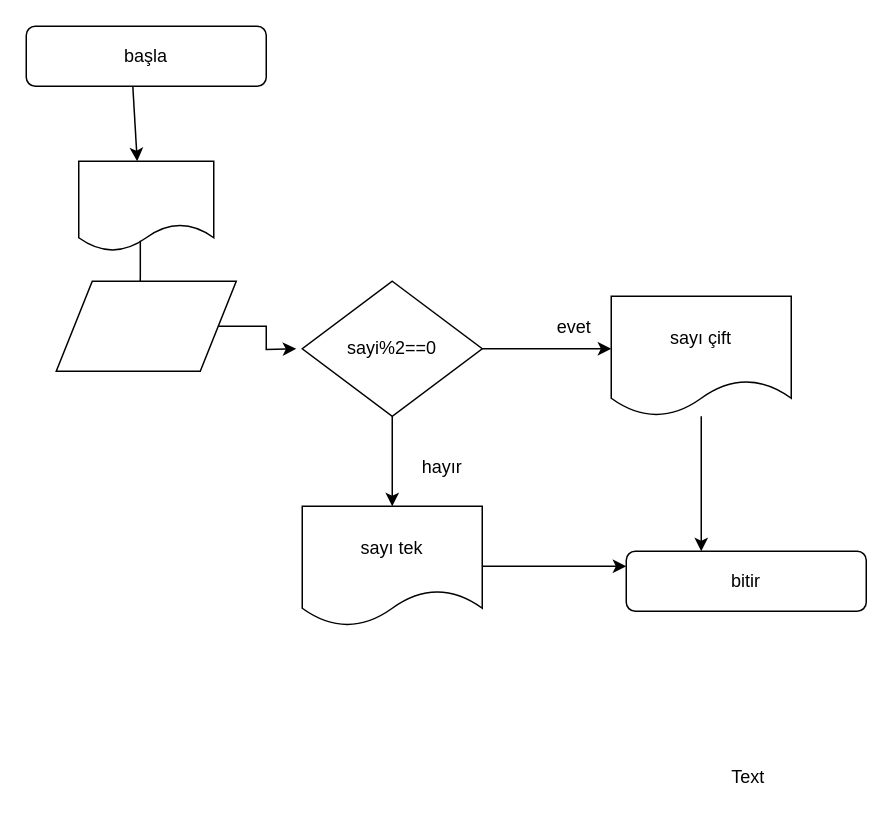
Image size: 893x819. Some labels were removed from this diagram. The box of each missing label's shape, as (x1, y1, x2, y2) in pixels:
sayı: (55, 280, 236, 371)
sayıyı giriniz: (77, 160, 214, 251)
